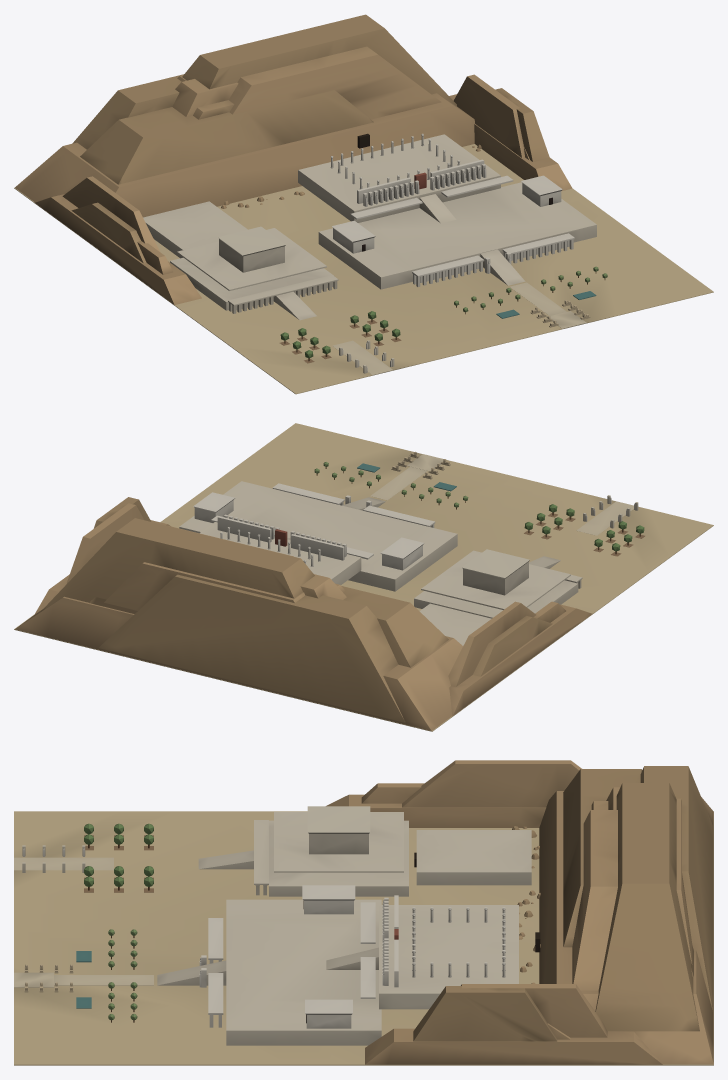
File: deir-el-bahari.glb
3 views of the same model, one above another, from view 1: azimuth 30°, elevation 25°; view 2: azimuth 150°, elevation 25°; view 3: azimuth 270°, elevation 25° (orthographic). The views are drawn at different scales.
Parts seen in each view (by area): view 1: p0_cliff, p1_terraces, p2_colonnades, p3_statues; view 2: p0_cliff, p1_terraces, p3_statues, p2_colonnades; view 3: p0_cliff, p1_terraces, p2_colonnades, p3_statues.
Part boxes in pixels (x1,y1,x2,y2): p0_cliff: (14, 14, 713, 394); p1_terraces: (143, 134, 596, 320); p2_colonnades: (330, 133, 574, 286); p3_statues: (280, 252, 607, 373); p0_cliff: (14, 423, 713, 731); p1_terraces: (179, 481, 582, 645); p3_statues: (314, 451, 644, 556); p2_colonnades: (211, 483, 435, 566); p0_cliff: (14, 760, 713, 1065); p1_terraces: (157, 806, 531, 1045); p2_colonnades: (208, 897, 540, 1027); p3_statues: (22, 823, 206, 1022).
Bounding box in the file's own units: 240 × 57.78 × 280.
